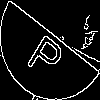P: (25, 25, 71, 82)
